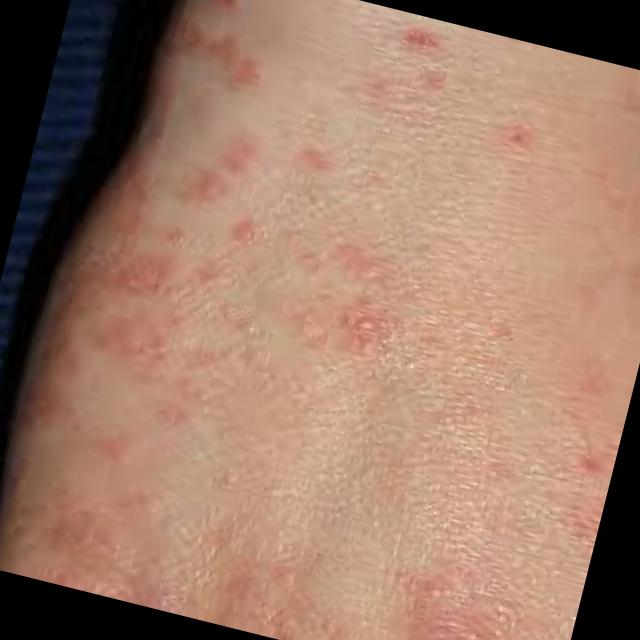kan emici bocekler: (68, 172, 269, 402), (484, 155, 640, 449), (1, 397, 200, 610), (391, 563, 545, 640), (320, 236, 410, 363), (171, 1, 285, 88), (208, 553, 322, 640), (333, 426, 429, 519), (348, 58, 458, 129), (175, 118, 260, 208), (546, 450, 616, 539), (292, 143, 340, 177), (494, 120, 539, 155), (397, 24, 436, 51)
